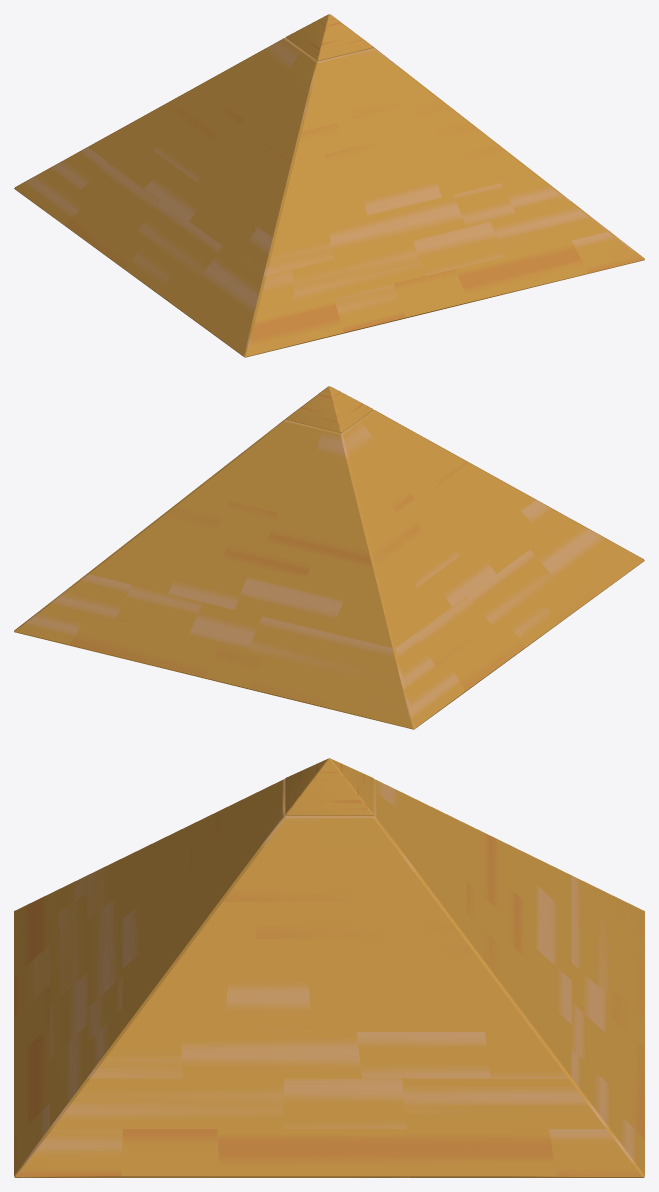
The model's file is mediumpyramid.glb.
The picture shows the model from 3 angles, top to bottom: view 1: azimuth 30°, elevation 25°; view 2: azimuth 150°, elevation 25°; view 3: azimuth 270°, elevation 25°; orthographic projection. The views are drawn at different scales.
Parts seen in each view (by area): view 1: pyramid_medium; view 2: pyramid_medium; view 3: pyramid_medium.
Boxes of the visible parts, x1,y1,x2,y2 form: pyramid_medium: (14,14,644,357); pyramid_medium: (14,386,644,729); pyramid_medium: (14,758,644,1177).
Size of the model in its own units: 13.93 by 6.97 by 13.93.
Materials: 1 (1 with a texture image).
